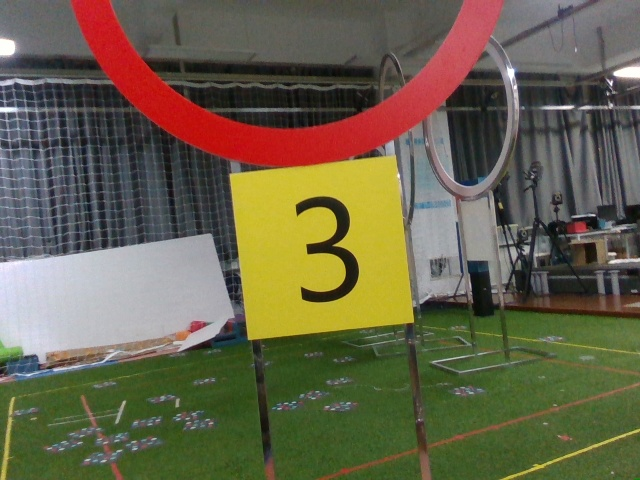target: (251, 174, 396, 324)
